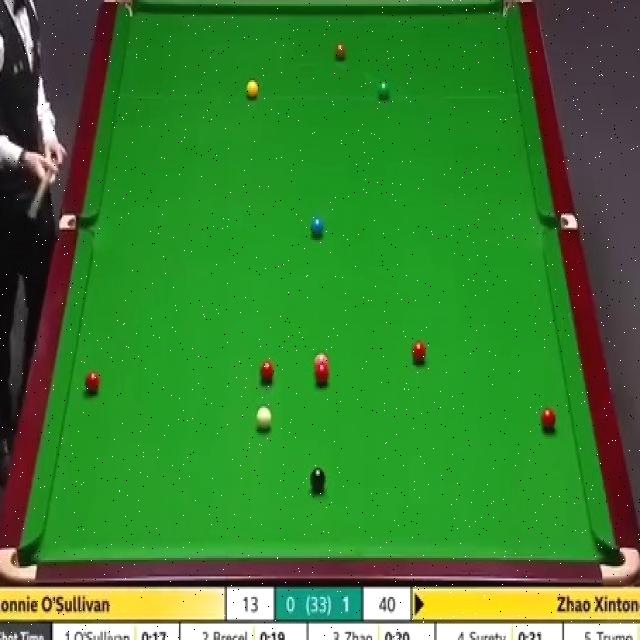black-ball: (310, 465, 327, 492)
blue-ball: (310, 216, 326, 238)
brown-ball: (334, 42, 346, 62)
green-ball: (376, 80, 390, 100)
pink-ball: (313, 353, 330, 367)
red-ball: (84, 369, 101, 396), (540, 409, 558, 432), (313, 364, 330, 386), (411, 341, 426, 365), (259, 361, 274, 384)
white-ball: (255, 406, 272, 431)
yellow-ball: (248, 82, 260, 102)
